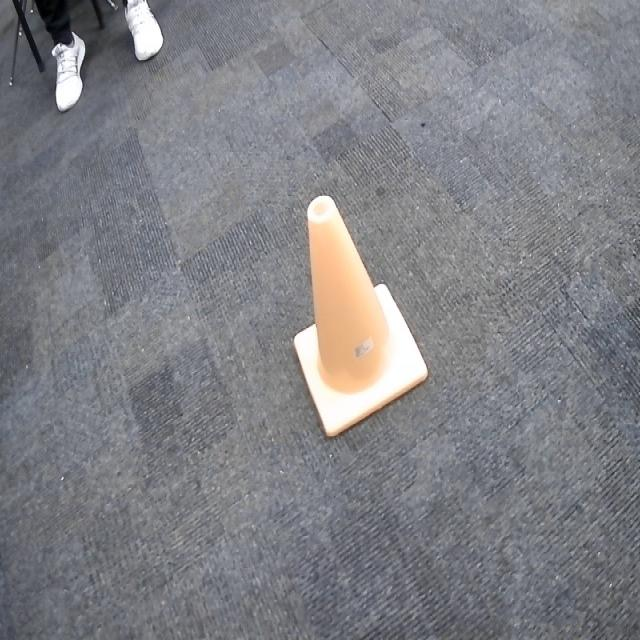cone: (291, 191, 428, 442)
